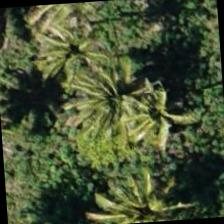Kelapa_Sawit: (81, 76, 177, 172), (94, 170, 189, 223), (26, 0, 120, 52)
